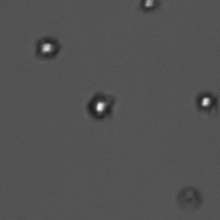Dead Cell: (173, 185, 207, 211)
Living Cell: (86, 88, 116, 120), (32, 36, 65, 59), (192, 89, 217, 113), (139, 1, 160, 13)
